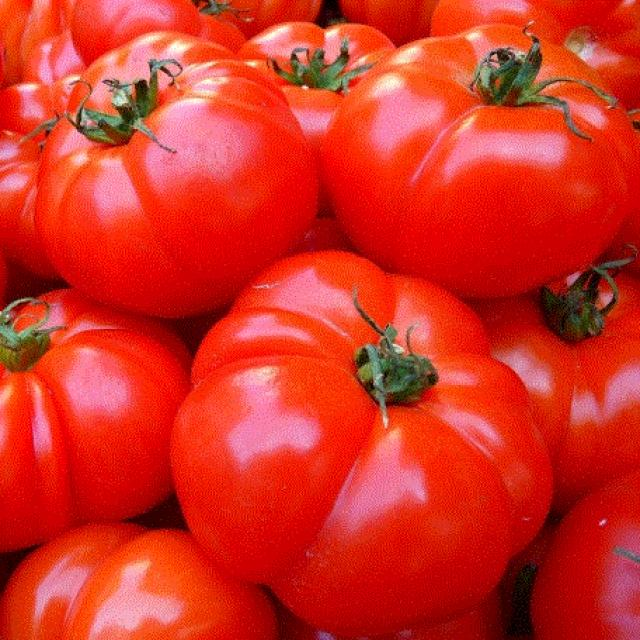Healthy: (215, 260, 549, 602), (334, 33, 638, 247), (60, 57, 312, 268), (3, 262, 173, 523), (3, 528, 270, 622), (494, 332, 638, 467), (261, 17, 385, 138), (554, 470, 638, 616)
